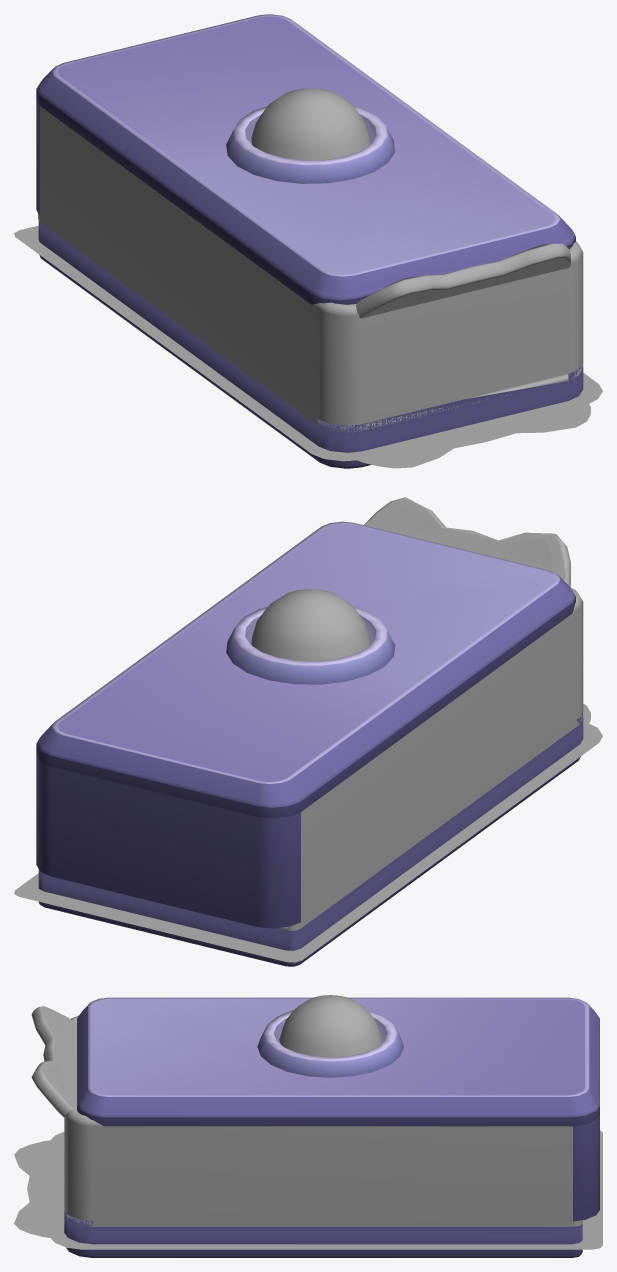
Rendered from Carrier.fbx.
3 renders of one model, top to bottom at view 1: azimuth 30°, elevation 25°; view 2: azimuth 150°, elevation 25°; view 3: azimuth 270°, elevation 25°, orthographic. The views are drawn at different scales.
Parts seen in each view (by area): view 1: Home_Lid, Home_Mesh, Home_Color, Home_Mesh_Road, Home_Color_Shadow; view 2: Home_Lid, Home_Mesh, Home_Mesh_Road, Home_Color_Shadow, Home_Color; view 3: Home_Lid, Home_Mesh, Home_Mesh_Road, Home_Color_Shadow, Home_Color.
Boxes of the visible parts, <box> form: Home_Lid: <box>36,14,575,304</box>; Home_Mesh: <box>38,106,583,432</box>; Home_Color: <box>38,213,583,431</box>; Home_Mesh_Road: <box>38,220,583,468</box>; Home_Color_Shadow: <box>14,225,602,468</box>; Home_Lid: <box>36,521,575,928</box>; Home_Mesh: <box>38,497,583,930</box>; Home_Mesh_Road: <box>38,712,583,966</box>; Home_Color_Shadow: <box>14,704,602,962</box>; Home_Color: <box>277,505,583,932</box>; Home_Lid: <box>77,995,599,1221</box>; Home_Mesh: <box>31,1006,582,1226</box>; Home_Mesh_Road: <box>64,1210,582,1257</box>; Home_Color_Shadow: <box>14,1130,602,1249</box>; Home_Color: <box>48,1011,582,1225</box>.
Size of the model in its own units: 332 by 263 by 684.
